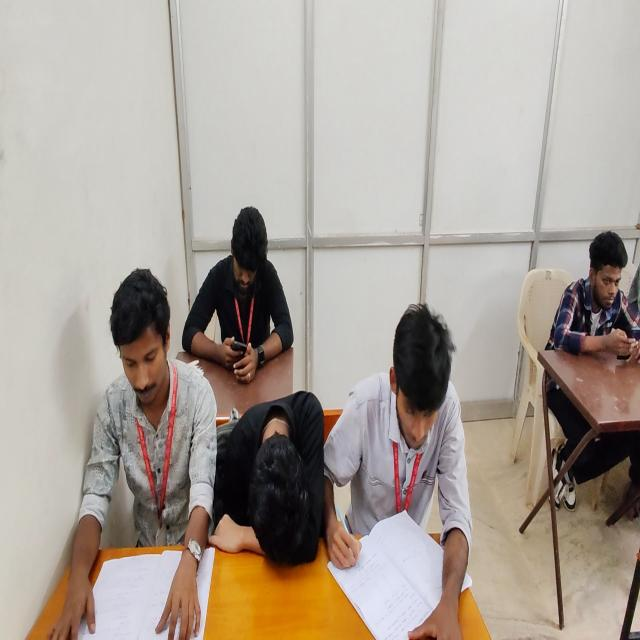reading: (48, 268, 220, 640)
sleeping: (211, 388, 322, 570)
using_mobile: (542, 229, 640, 517), (181, 205, 295, 383)
writing: (324, 304, 462, 640)
